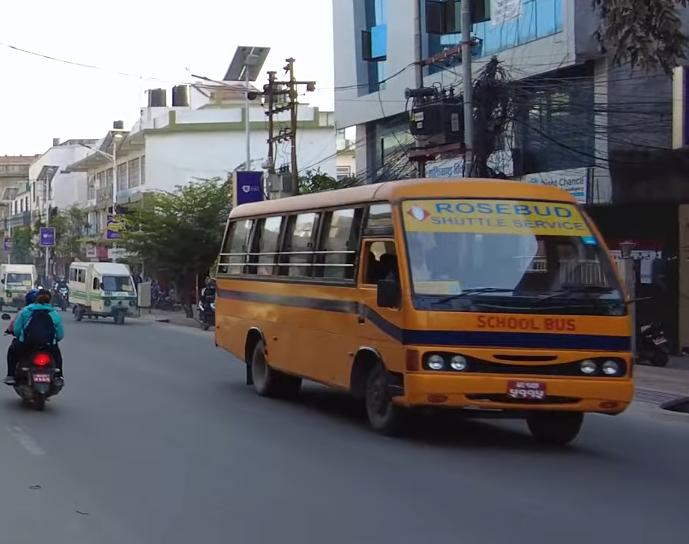school_bus: (209, 172, 642, 452)
scooter: (0, 310, 72, 412)
tempo: (65, 257, 140, 325), (0, 262, 39, 310)
